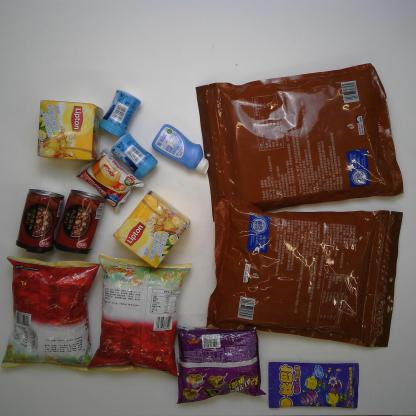Candy: (268, 361, 359, 408)
Canned Food: (54, 189, 106, 253), (15, 189, 64, 253)
Dessert: (76, 147, 144, 211)
Dried Food: (195, 63, 403, 224), (206, 196, 403, 348)
Gum: (111, 133, 157, 179), (100, 89, 140, 138)
Instant Drink: (114, 192, 189, 268), (38, 101, 103, 161)
Instant Noodles: (174, 324, 266, 404)
Personal Hygiene: (152, 124, 209, 175)
Puffed Food: (88, 253, 192, 377), (0, 255, 100, 370)
